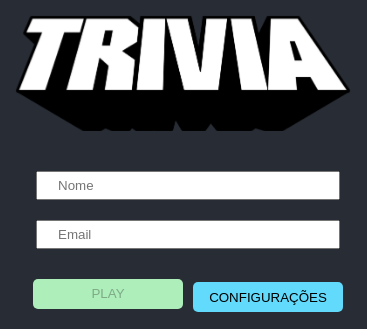
Test case: 1 - Crie uma página inicial de login com os seguintes campos e características: › Verifica validaçoes do botão para enabled
Expected: the button with test id "btn-play" is disabled, top-left (33, 279), bottom-right (183, 309)
Expected: the field with test id "input-gravatar-email" is shown, top-left (36, 220), bottom-right (340, 249)
Type "alguem" into the field with test id "input-player-name" at (188, 185), box top-left (36, 171), bottom-right (340, 200)
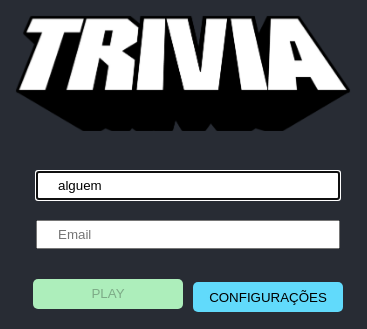
Type "alguem@pessoa.com" into the field with test id "input-gravatar-email" at (188, 234), box top-left (36, 220), bottom-right (340, 249)
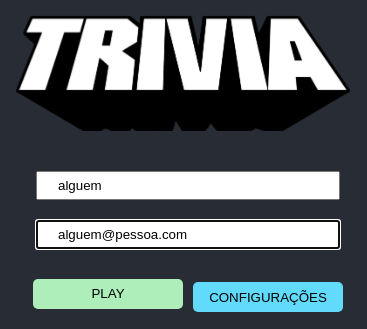
Expected: the button with test id "btn-play" is enabled, top-left (33, 279), bottom-right (183, 309)
